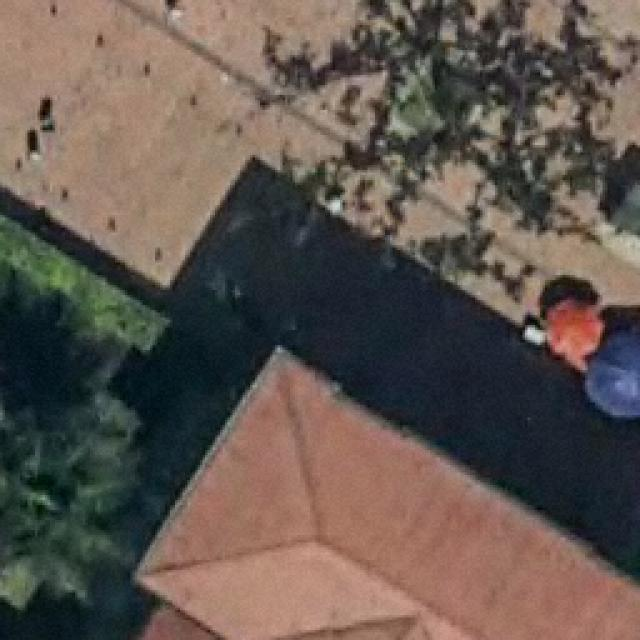vendedor_ambulante: (585, 328, 640, 423), (541, 288, 606, 363)
